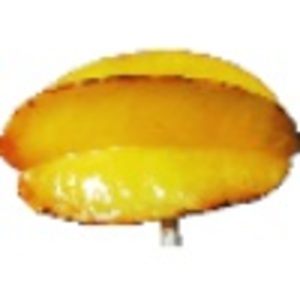carambola: (1, 47, 300, 244)
